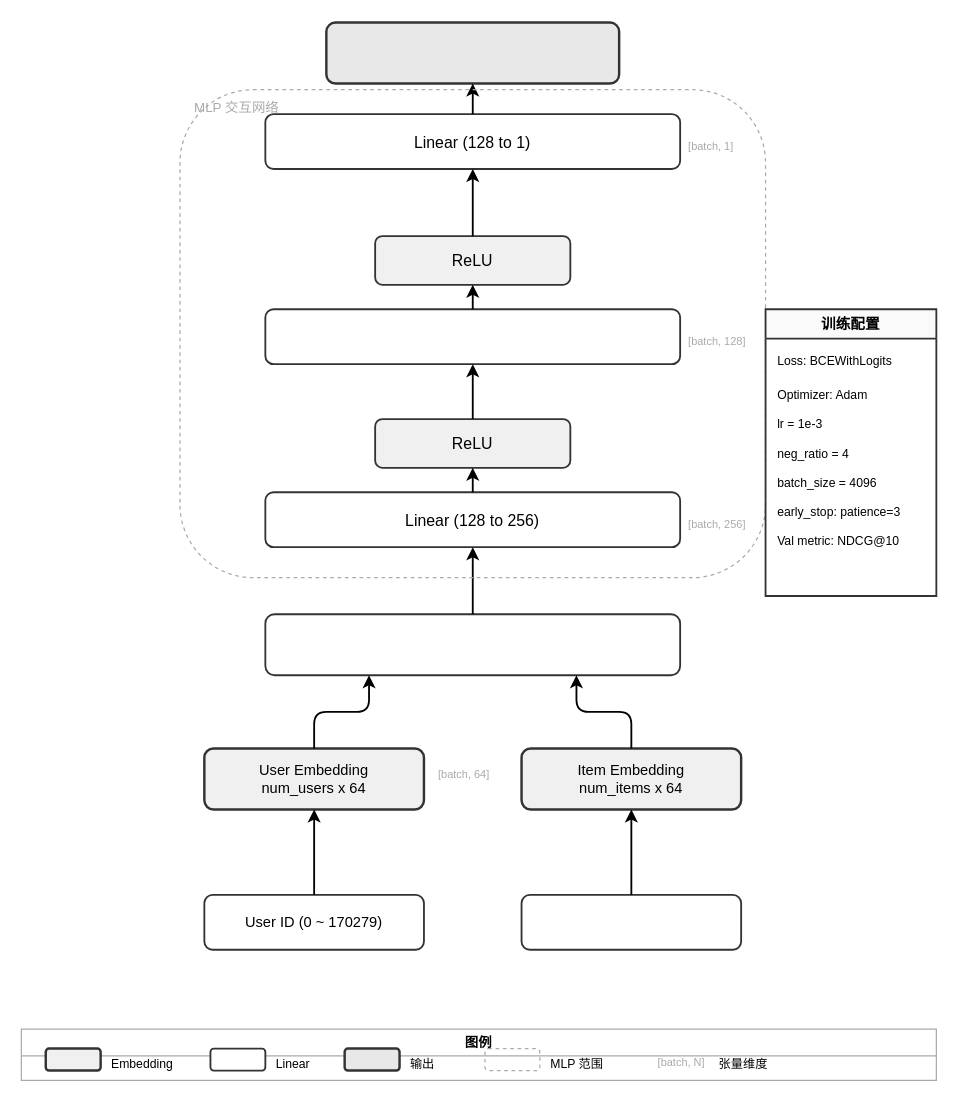
Image size: 959x1102. Some labels were removed from this diagram. Here are the shapes that lost their labels. From the top down, the centre of each, then its label:
At point (472, 52): "Logit (偏好得分)".
At point (472, 336): "Linear (256 to 128)".
At point (472, 644): "Concat (User Emb + Item Emb)".
At point (631, 921): "Movie ID (0 ~ 71307)".
